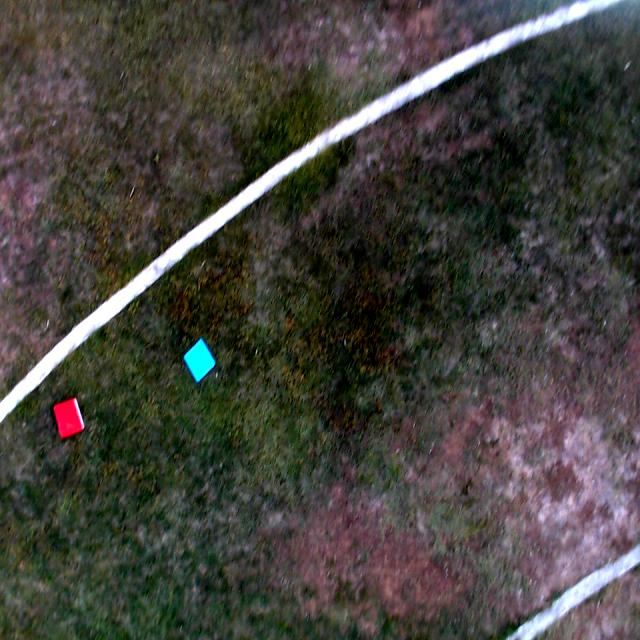blue_square: (182, 339, 216, 384)
red_square: (52, 397, 85, 439)
